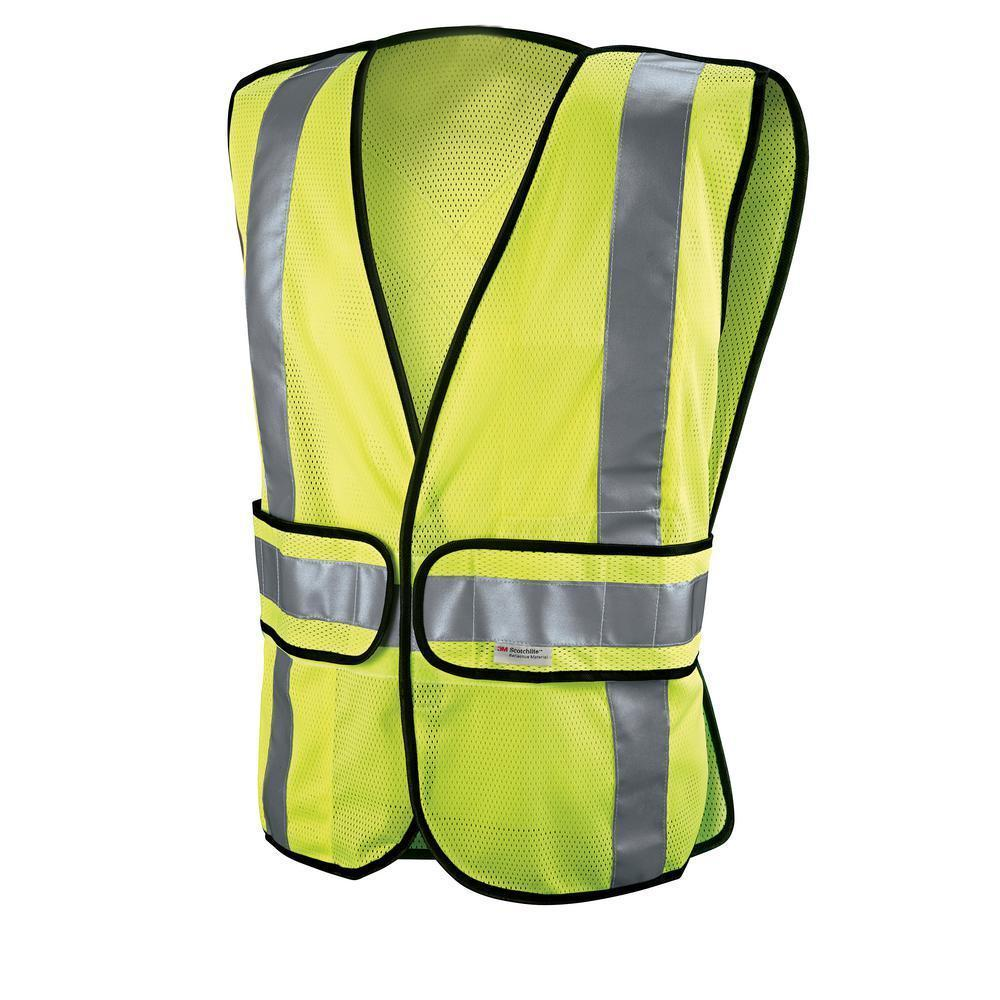vest: (224, 29, 807, 908)
